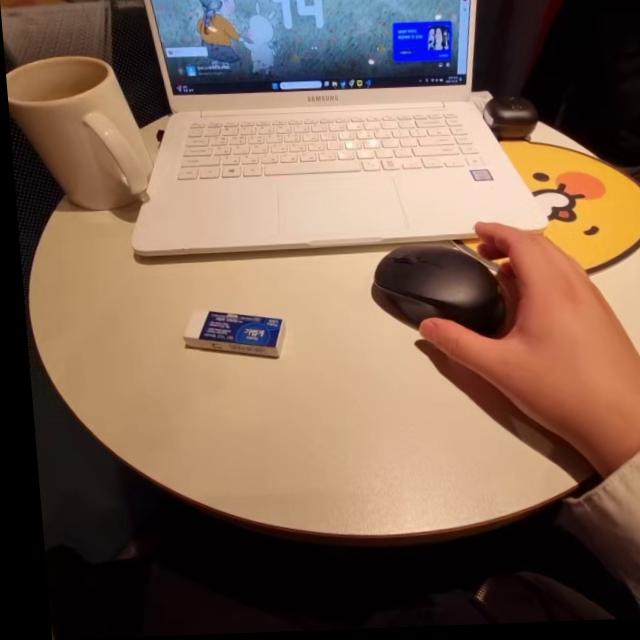eraser: (159, 301, 293, 376)
grab_mouse: (364, 219, 640, 456)
